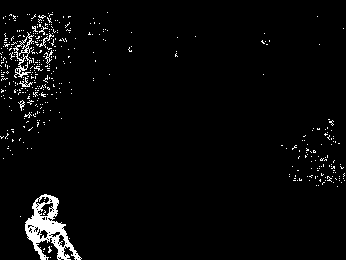person: (23, 191, 82, 260)
